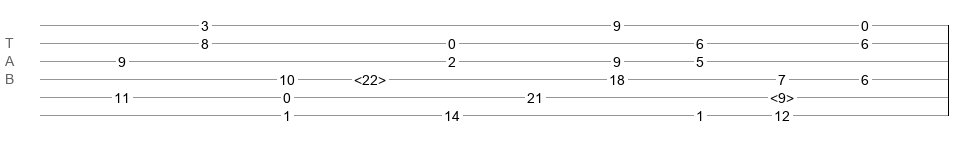0: (283, 90, 291, 100), (448, 36, 456, 46), (861, 18, 869, 28)
1: (283, 108, 291, 118), (696, 108, 704, 118)
10: (279, 72, 295, 82)
11: (114, 90, 130, 100)
12: (774, 108, 790, 118)
14: (444, 108, 460, 118)
18: (609, 72, 625, 82)
2: (448, 54, 456, 64)
21: (527, 90, 543, 100)
3: (201, 18, 209, 28)
5: (696, 54, 704, 64)
6: (696, 36, 704, 46), (861, 36, 869, 46), (861, 72, 869, 82)
7: (778, 72, 786, 82)
8: (201, 36, 209, 46)
9: (118, 54, 126, 64), (613, 54, 621, 64), (613, 18, 621, 28)
harmonic: (354, 72, 386, 82), (770, 90, 794, 100)
